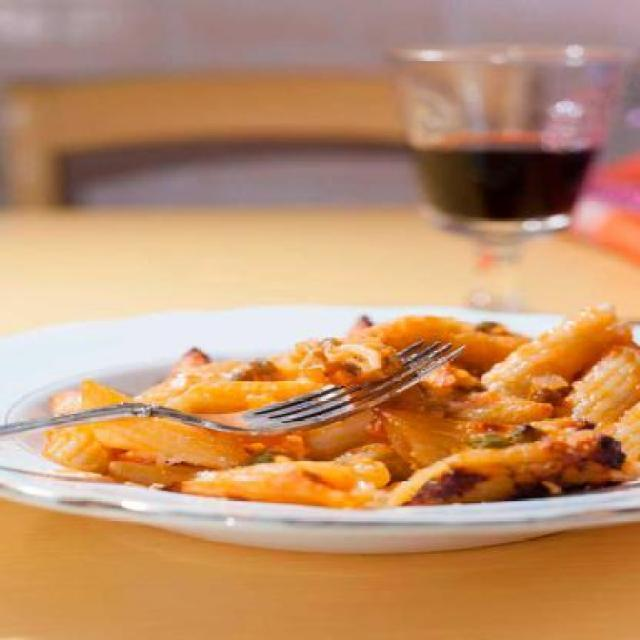Pasta al ragu: (24, 302, 640, 531)
